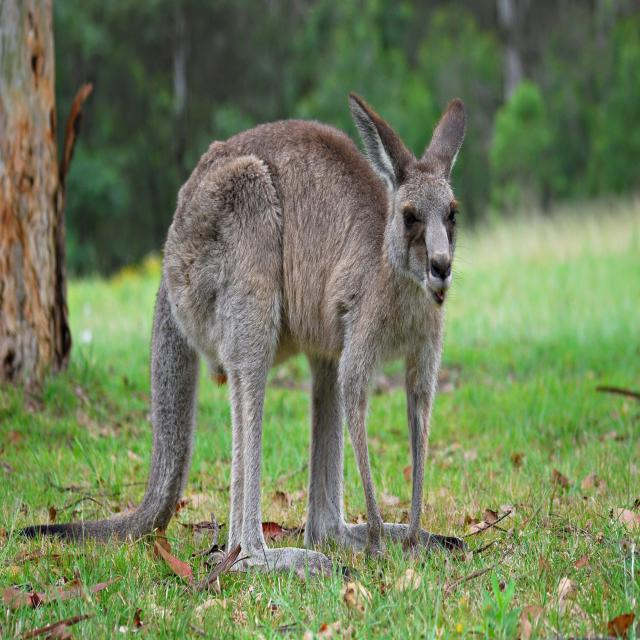Kangaroo: (17, 97, 483, 583)
